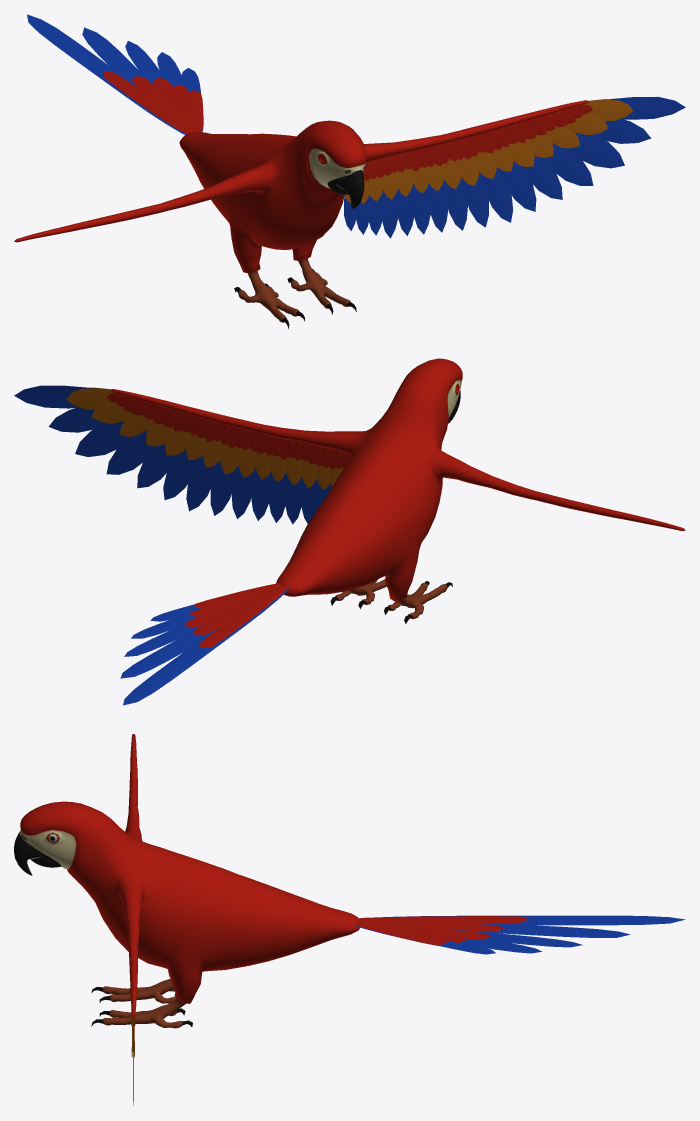
File: ara.obj
3 views of the same model, one above another, from view 1: azimuth 30°, elevation 25°; view 2: azimuth 150°, elevation 25°; view 3: azimuth 270°, elevation 25° (orthographic).
Visible parts, largest first — view 1: macaw, feather_tail_primary_005, feather_flight_primary_014, feather_flight_primary_013, feather_tail_primary_004, feather_flight_primary_016, feather_tail_secondary_005, feather_flight_primary_010, feather_flight_primary_011, feather_flight_primary_012, feather_flight_primary_015, feather_flight_primary_009 (+14 smaller); view 2: macaw, feather_tail_primary_005, feather_flight_primary_014, feather_flight_primary_013, feather_tail_primary_004, feather_flight_primary_016, feather_tail_secondary_005, feather_flight_primary_010, feather_flight_primary_011, feather_flight_primary_012, feather_flight_primary_015, feather_flight_primary_009 (+12 smaller); view 3: macaw, feather_tail_primary_005, feather_tail_primary_004, feather_tail_secondary_005, feather_tail_secondary_004, feather_tail_primary_003, feather_tail_secondary_003, feather_tail_primary_002, feather_tail_secondary_001.
Part boxes in pixels (x1,y1,x2,y2): macaw: [14, 100, 588, 329]; feather_tail_primary_005: [27, 14, 186, 134]; feather_flight_primary_014: [565, 132, 624, 168]; feather_flight_primary_013: [542, 143, 593, 185]; feather_tail_primary_004: [82, 27, 185, 134]; feather_flight_primary_016: [564, 96, 685, 119]; feather_tail_secondary_005: [103, 70, 191, 133]; feather_flight_primary_010: [480, 167, 512, 222]; feather_flight_primary_011: [499, 160, 536, 211]; feather_flight_primary_012: [521, 155, 562, 199]; feather_flight_primary_015: [591, 119, 651, 143]; feather_flight_primary_009: [462, 171, 488, 227]; macaw: [110, 358, 685, 623]; feather_tail_primary_005: [123, 587, 288, 705]; feather_flight_primary_014: [75, 421, 147, 456]; feather_flight_primary_013: [106, 432, 161, 474]; feather_tail_primary_004: [120, 630, 212, 678]; feather_flight_primary_016: [14, 385, 91, 408]; feather_tail_secondary_005: [199, 585, 287, 647]; feather_flight_primary_010: [186, 456, 220, 511]; feather_flight_primary_011: [163, 448, 202, 499]; feather_flight_primary_012: [137, 443, 181, 488]; feather_flight_primary_015: [48, 407, 117, 432]; feather_flight_primary_009: [210, 461, 238, 515]; macaw: [14, 734, 359, 1028]; feather_tail_primary_005: [383, 915, 685, 925]; feather_tail_primary_004: [359, 922, 630, 937]; feather_tail_secondary_005: [358, 916, 528, 923]; feather_tail_secondary_004: [358, 920, 504, 931]; feather_tail_primary_003: [475, 932, 582, 947]; feather_tail_secondary_003: [357, 922, 490, 939]; feather_tail_primary_002: [462, 938, 541, 953]; feather_tail_secondary_001: [354, 922, 446, 945].
Bounding box in the file's own units: 0.9945 × 0.2903 × 0.8573.
